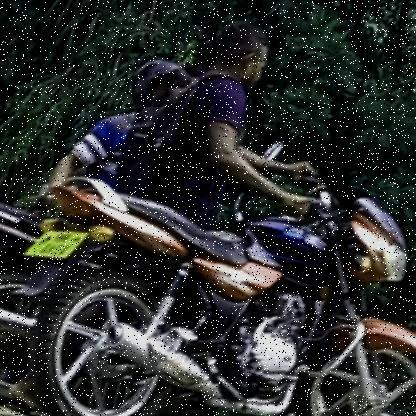motorcycle: (6, 160, 416, 416), (0, 160, 57, 413)
